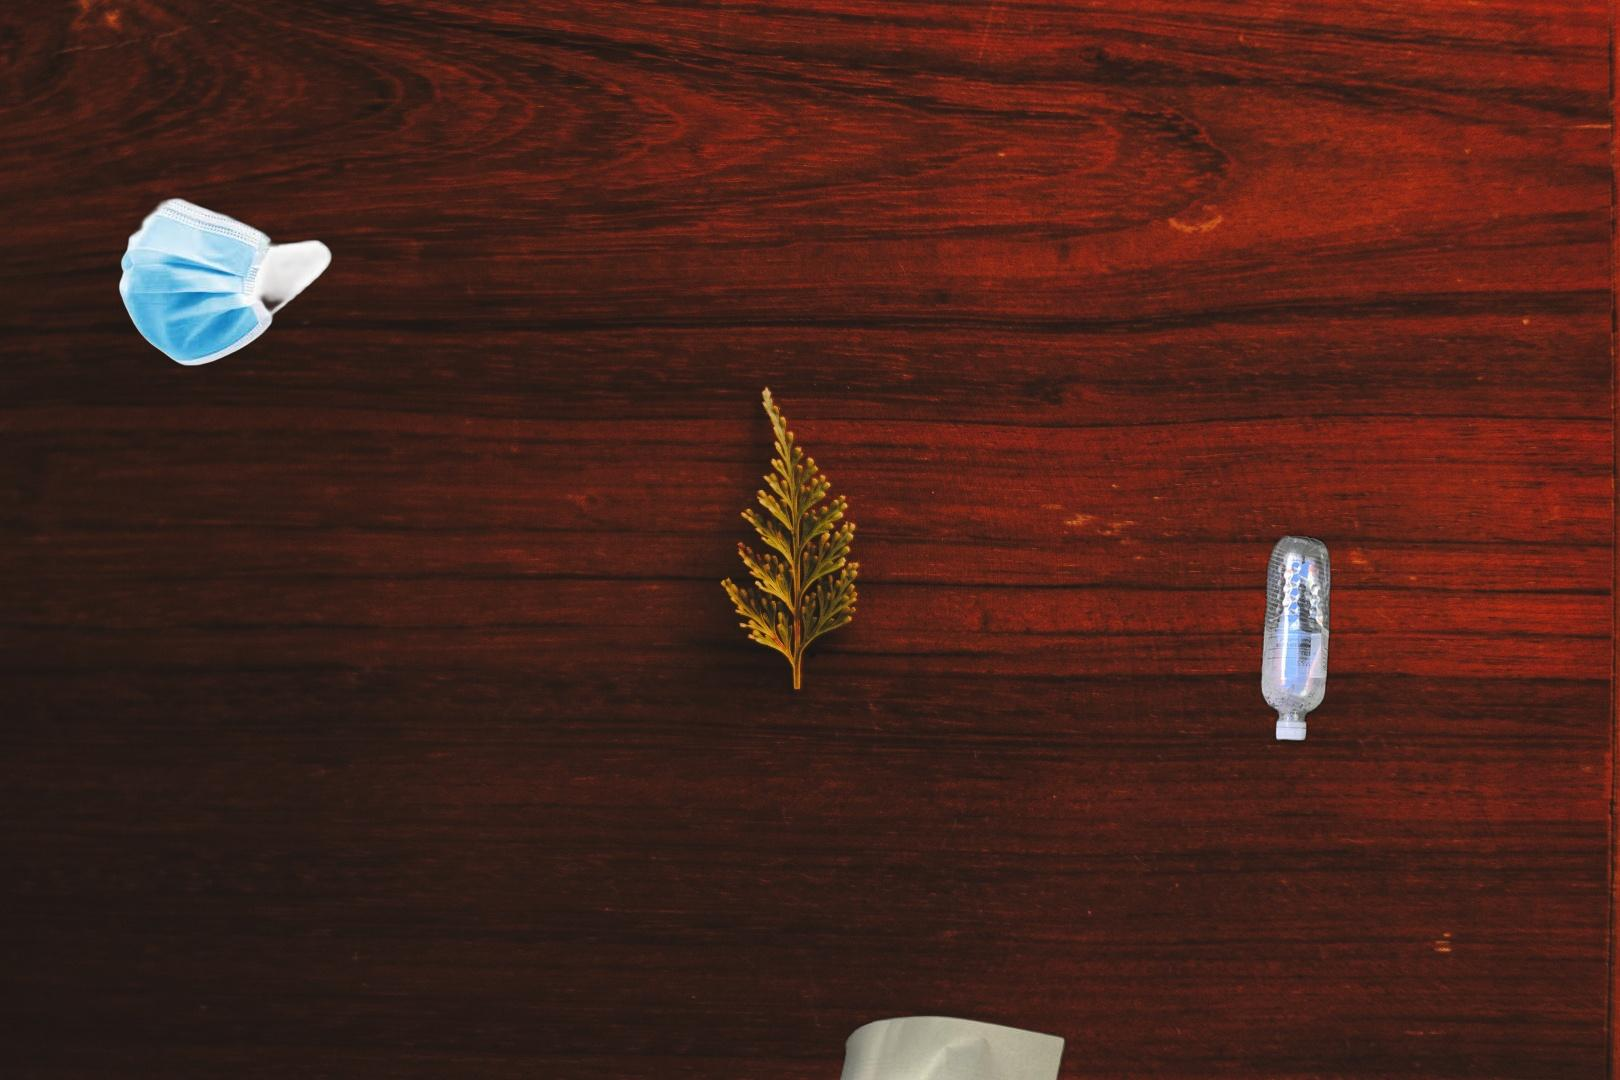paper: (808, 1005, 1072, 1080)
plastic-bottles: (1256, 528, 1336, 749)
trash: (116, 184, 337, 369)
